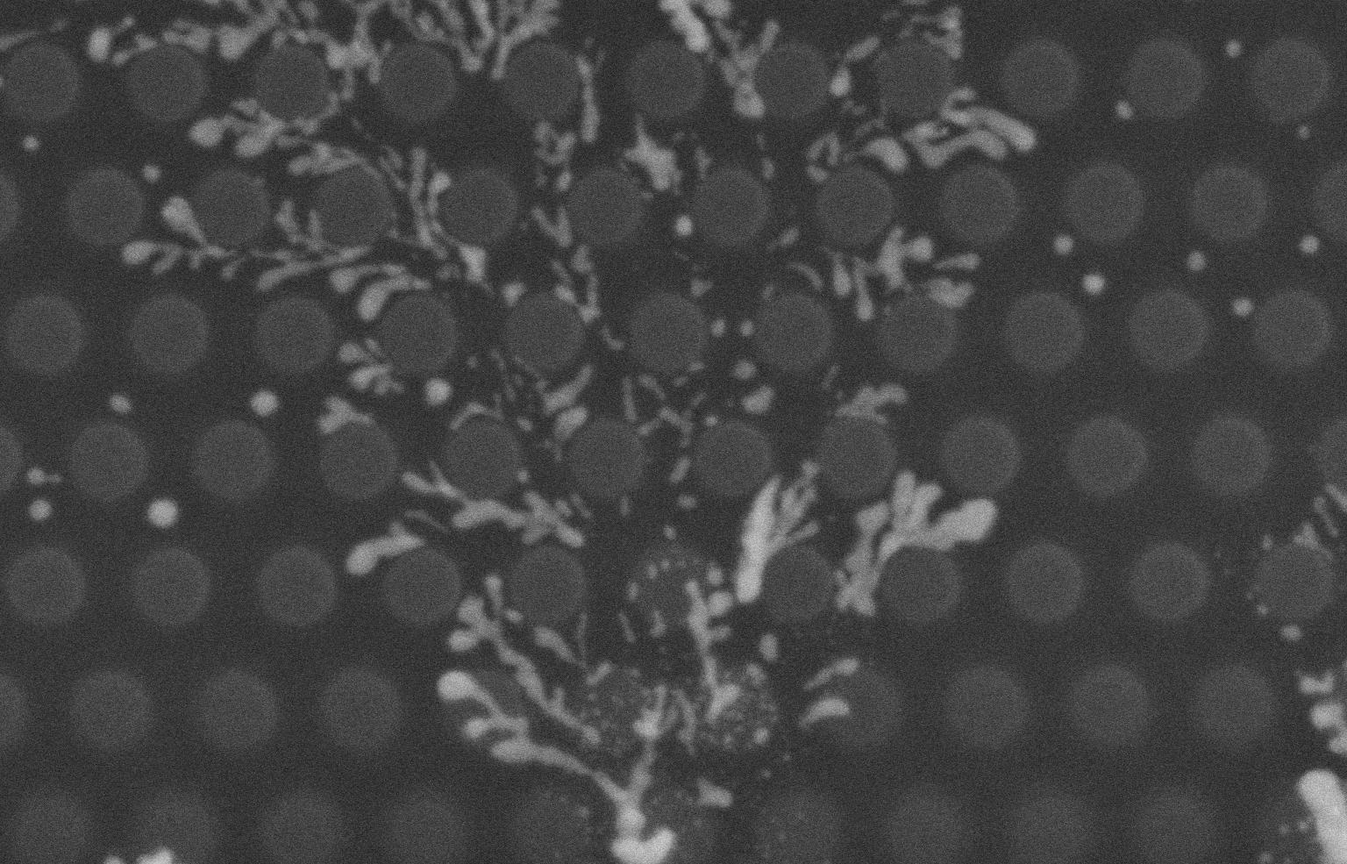Dendrite: (437, 670, 700, 864), (193, 0, 559, 96), (449, 576, 599, 748), (835, 472, 995, 616), (451, 603, 602, 747), (379, 146, 486, 293), (403, 465, 584, 547), (161, 196, 337, 278), (403, 467, 583, 546), (735, 461, 819, 603), (685, 582, 745, 723), (688, 662, 777, 753), (193, 101, 321, 159), (576, 664, 652, 755), (437, 670, 526, 740), (941, 88, 1036, 152), (714, 24, 778, 118), (531, 615, 615, 686), (490, 0, 559, 80), (329, 264, 427, 320), (734, 478, 778, 602), (257, 248, 367, 292), (1297, 769, 1346, 864), (905, 125, 1008, 168), (624, 118, 681, 191), (346, 521, 423, 575), (1301, 667, 1346, 756), (288, 139, 381, 181), (825, 251, 880, 321), (873, 225, 930, 291), (1294, 486, 1346, 556), (339, 341, 403, 396), (275, 199, 338, 254), (899, 6, 962, 60), (358, 276, 428, 321), (830, 38, 879, 96), (658, 0, 709, 54), (834, 136, 908, 173), (460, 0, 496, 74), (839, 382, 906, 421), (539, 366, 592, 415), (0, 18, 68, 54), (289, 142, 360, 175), (87, 18, 133, 62), (318, 397, 372, 434), (646, 358, 709, 389), (1310, 701, 1346, 755), (121, 239, 180, 271), (576, 249, 601, 323), (534, 122, 575, 166), (804, 657, 859, 689), (113, 33, 167, 64), (580, 58, 599, 143), (800, 696, 850, 728), (531, 208, 572, 246), (926, 276, 973, 309), (165, 22, 212, 53), (451, 400, 501, 429), (493, 350, 517, 403), (329, 266, 376, 293), (638, 550, 675, 584), (807, 132, 840, 168), (553, 407, 587, 441), (680, 391, 703, 439), (659, 407, 693, 438), (638, 373, 671, 403), (787, 262, 823, 289), (741, 384, 773, 414), (698, 778, 731, 807), (147, 498, 178, 528), (134, 847, 184, 864), (249, 389, 279, 417), (407, 511, 447, 532), (568, 491, 593, 523), (936, 252, 980, 270), (424, 377, 451, 405), (530, 440, 561, 463), (624, 377, 639, 422), (693, 0, 730, 18), (26, 467, 61, 485), (638, 614, 664, 638), (29, 497, 53, 522), (601, 326, 624, 352), (617, 611, 636, 642), (502, 281, 526, 305), (881, 4, 901, 32), (759, 632, 778, 661), (1082, 273, 1105, 296), (552, 283, 577, 304), (774, 225, 799, 246), (694, 146, 712, 175), (109, 393, 132, 414), (670, 457, 688, 482), (821, 363, 839, 388), (1053, 233, 1073, 255), (1299, 234, 1321, 254), (1231, 296, 1253, 316), (674, 214, 693, 237), (734, 359, 755, 379), (689, 278, 712, 296), (140, 163, 161, 182), (759, 157, 777, 179), (1187, 250, 1206, 270), (1279, 625, 1301, 642), (1115, 100, 1133, 120), (615, 496, 631, 518), (709, 561, 723, 586), (1224, 39, 1242, 58), (556, 171, 573, 191), (674, 414, 691, 433), (638, 420, 657, 437), (677, 493, 696, 510), (626, 579, 640, 602), (514, 418, 531, 436), (807, 166, 826, 182), (24, 134, 39, 152), (712, 318, 725, 336), (739, 319, 752, 335), (703, 412, 719, 425), (664, 525, 677, 539), (1297, 125, 1310, 139), (900, 0, 930, 6), (661, 414, 678, 423), (580, 305, 588, 318), (592, 100, 595, 101), (420, 528, 422, 529), (274, 400, 275, 401)
